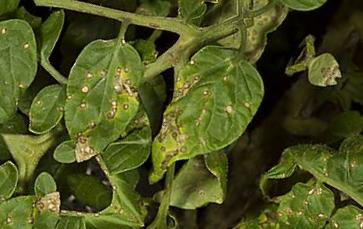Tomato Septoria leaf spot: (120, 33, 285, 220), (25, 21, 172, 179), (0, 8, 71, 136), (261, 166, 346, 229), (93, 165, 174, 229), (287, 55, 345, 104)
